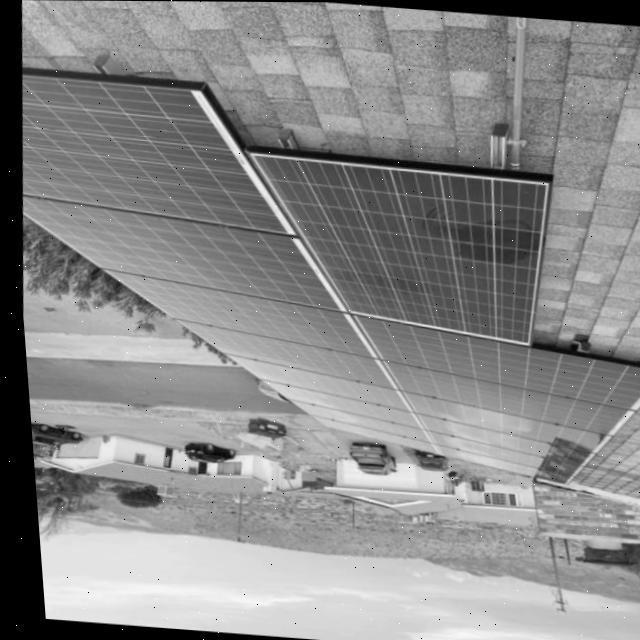Surface Contaminant: (21, 74, 389, 390), (256, 155, 640, 437)
